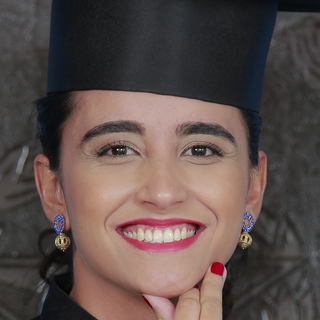eye: (91, 140, 144, 164), (176, 140, 226, 164)
